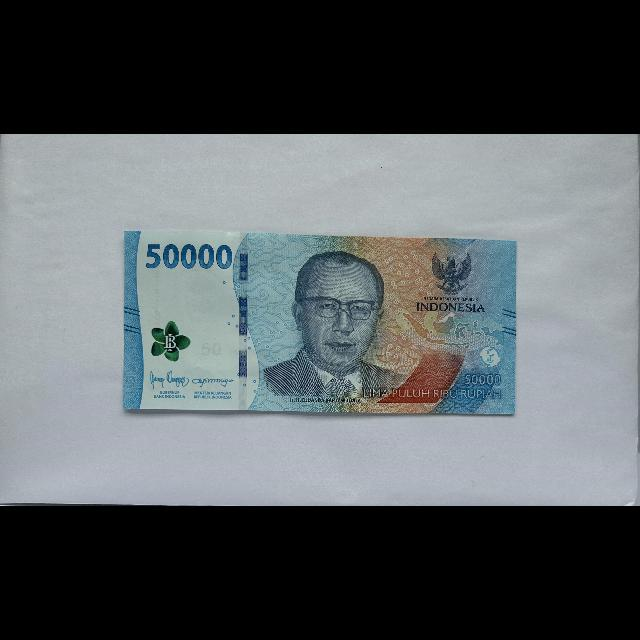Asli-50k: (123, 228, 518, 417)
Tinta-Asli-50k: (151, 320, 192, 362)
